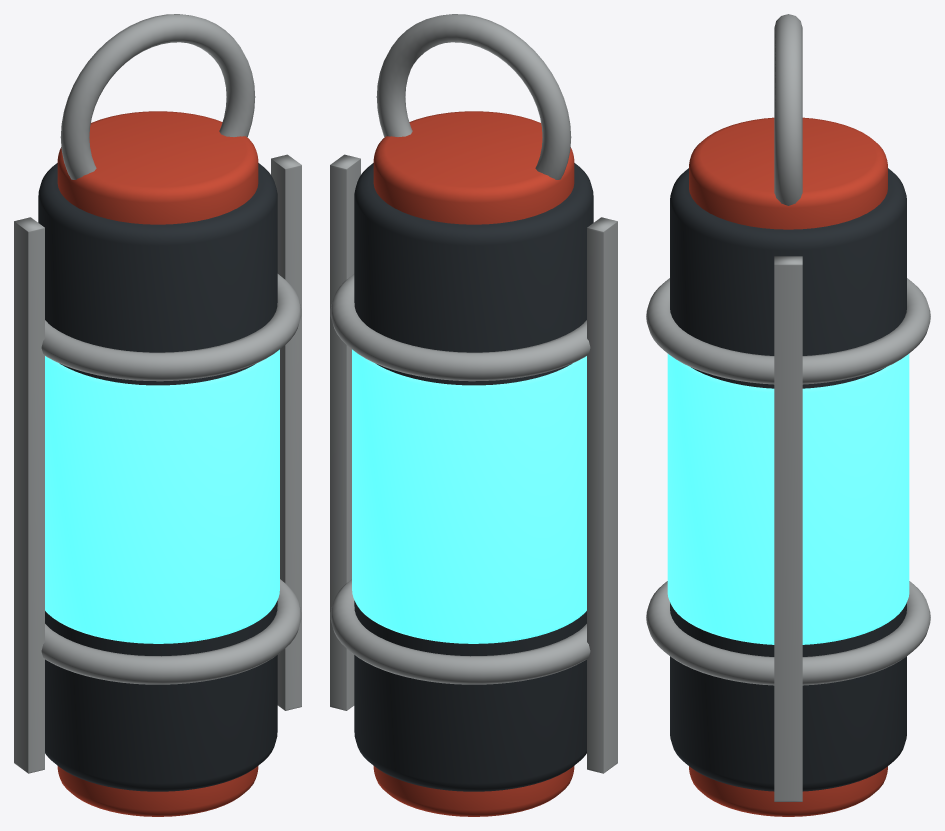
The model's file is salvage_power_cell.glb.
The picture shows the model from 3 angles, left to right: view 1: azimuth 30°, elevation 25°; view 2: azimuth 150°, elevation 25°; view 3: azimuth 270°, elevation 25°; orthographic projection.
Visible parts, largest first — view 1: Cylinder.001, Cylinder, Cylinder.003, Cube.001, Cube, Torus.002, Torus.001, Torus, Cylinder.002; view 2: Cylinder.001, Cylinder, Cylinder.003, Cube.001, Cube, Torus.002, Torus.001, Torus, Cylinder.002; view 3: Cylinder.001, Cylinder, Cylinder.003, Cube, Torus.001, Torus, Torus.002, Cylinder.002.
Part boxes in pixels (x1=…): Cylinder.001: x1=45, y1=349, x2=279, y2=643; Cylinder: x1=38, y1=163, x2=277, y2=791; Cylinder.003: x1=57, y1=111, x2=258, y2=224; Cube.001: x1=14, y1=217, x2=44, y2=773; Cube: x1=271, y1=154, x2=301, y2=710; Torus.002: x1=60, y1=14, x2=255, y2=179; Torus.001: x1=41, y1=274, x2=301, y2=381; Torus: x1=41, y1=579, x2=301, y2=684; Cylinder.002: x1=57, y1=766, x2=258, y2=816; Cylinder.001: x1=352, y1=349, x2=586, y2=643; Cylinder: x1=354, y1=163, x2=593, y2=791; Cylinder.003: x1=373, y1=111, x2=574, y2=224; Cube.001: x1=587, y1=217, x2=617, y2=773; Cube: x1=330, y1=154, x2=360, y2=710; Torus.002: x1=376, y1=14, x2=571, y2=179; Torus.001: x1=330, y1=274, x2=590, y2=381; Torus: x1=330, y1=579, x2=590, y2=684; Cylinder.002: x1=373, y1=766, x2=574, y2=816; Cylinder.001: x1=667, y1=354, x2=909, y2=644; Cylinder: x1=670, y1=168, x2=906, y2=791; Cylinder.003: x1=689, y1=117, x2=887, y2=229; Cube: x1=774, y1=256, x2=802, y2=801; Torus.001: x1=646, y1=278, x2=930, y2=384; Torus: x1=646, y1=581, x2=930, y2=685; Torus.002: x1=774, y1=14, x2=802, y2=205; Cylinder.002: x1=689, y1=766, x2=887, y2=816.
Bounding box in the file's own units: 0.132 × 0.351 × 0.12.
